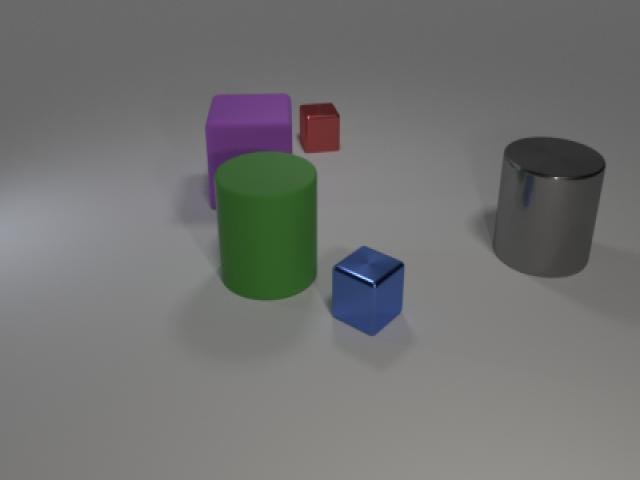cylinder: (489, 130, 609, 284), (210, 146, 324, 303)
